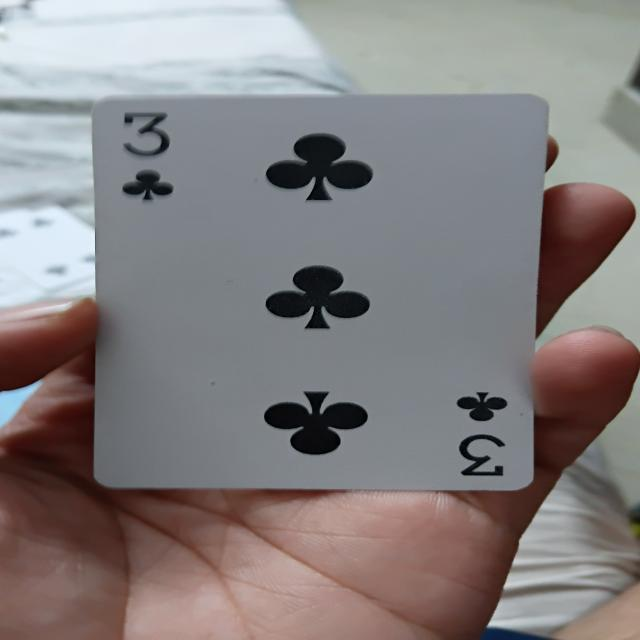3C: (84, 86, 542, 496)
